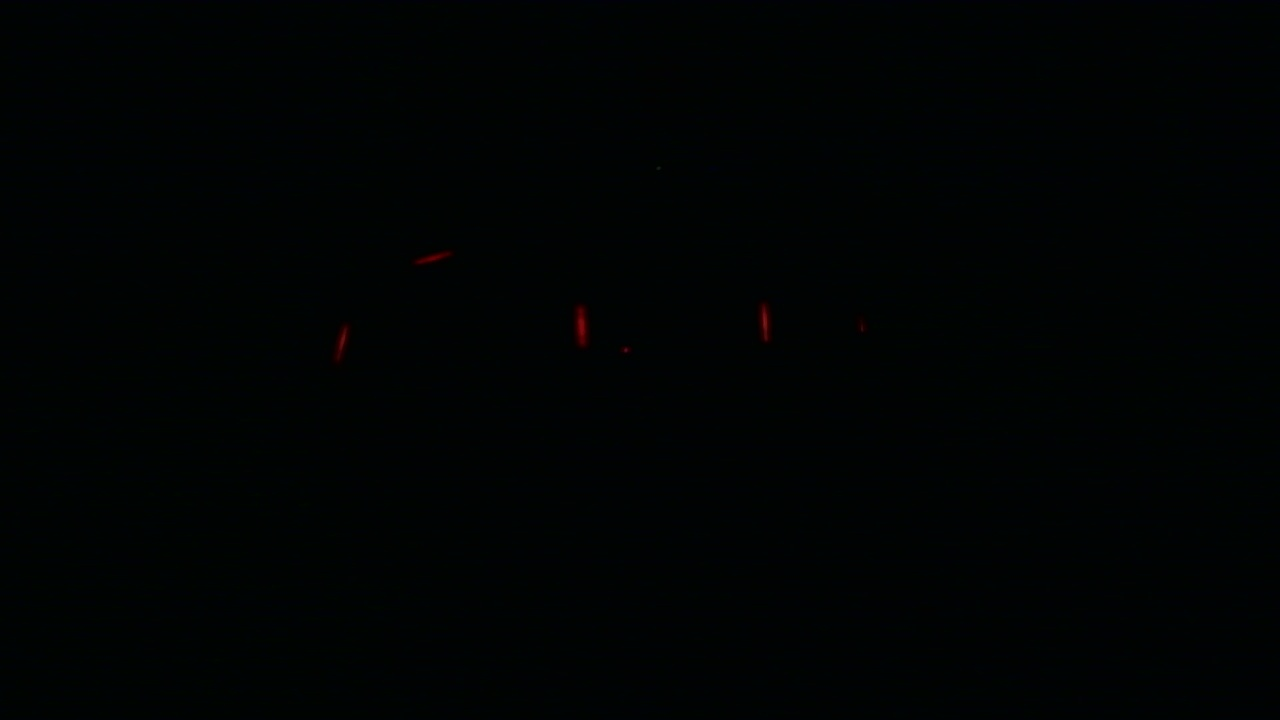lamp: (757, 300, 774, 345), (573, 298, 586, 346)
pair2: (575, 303, 774, 347)
